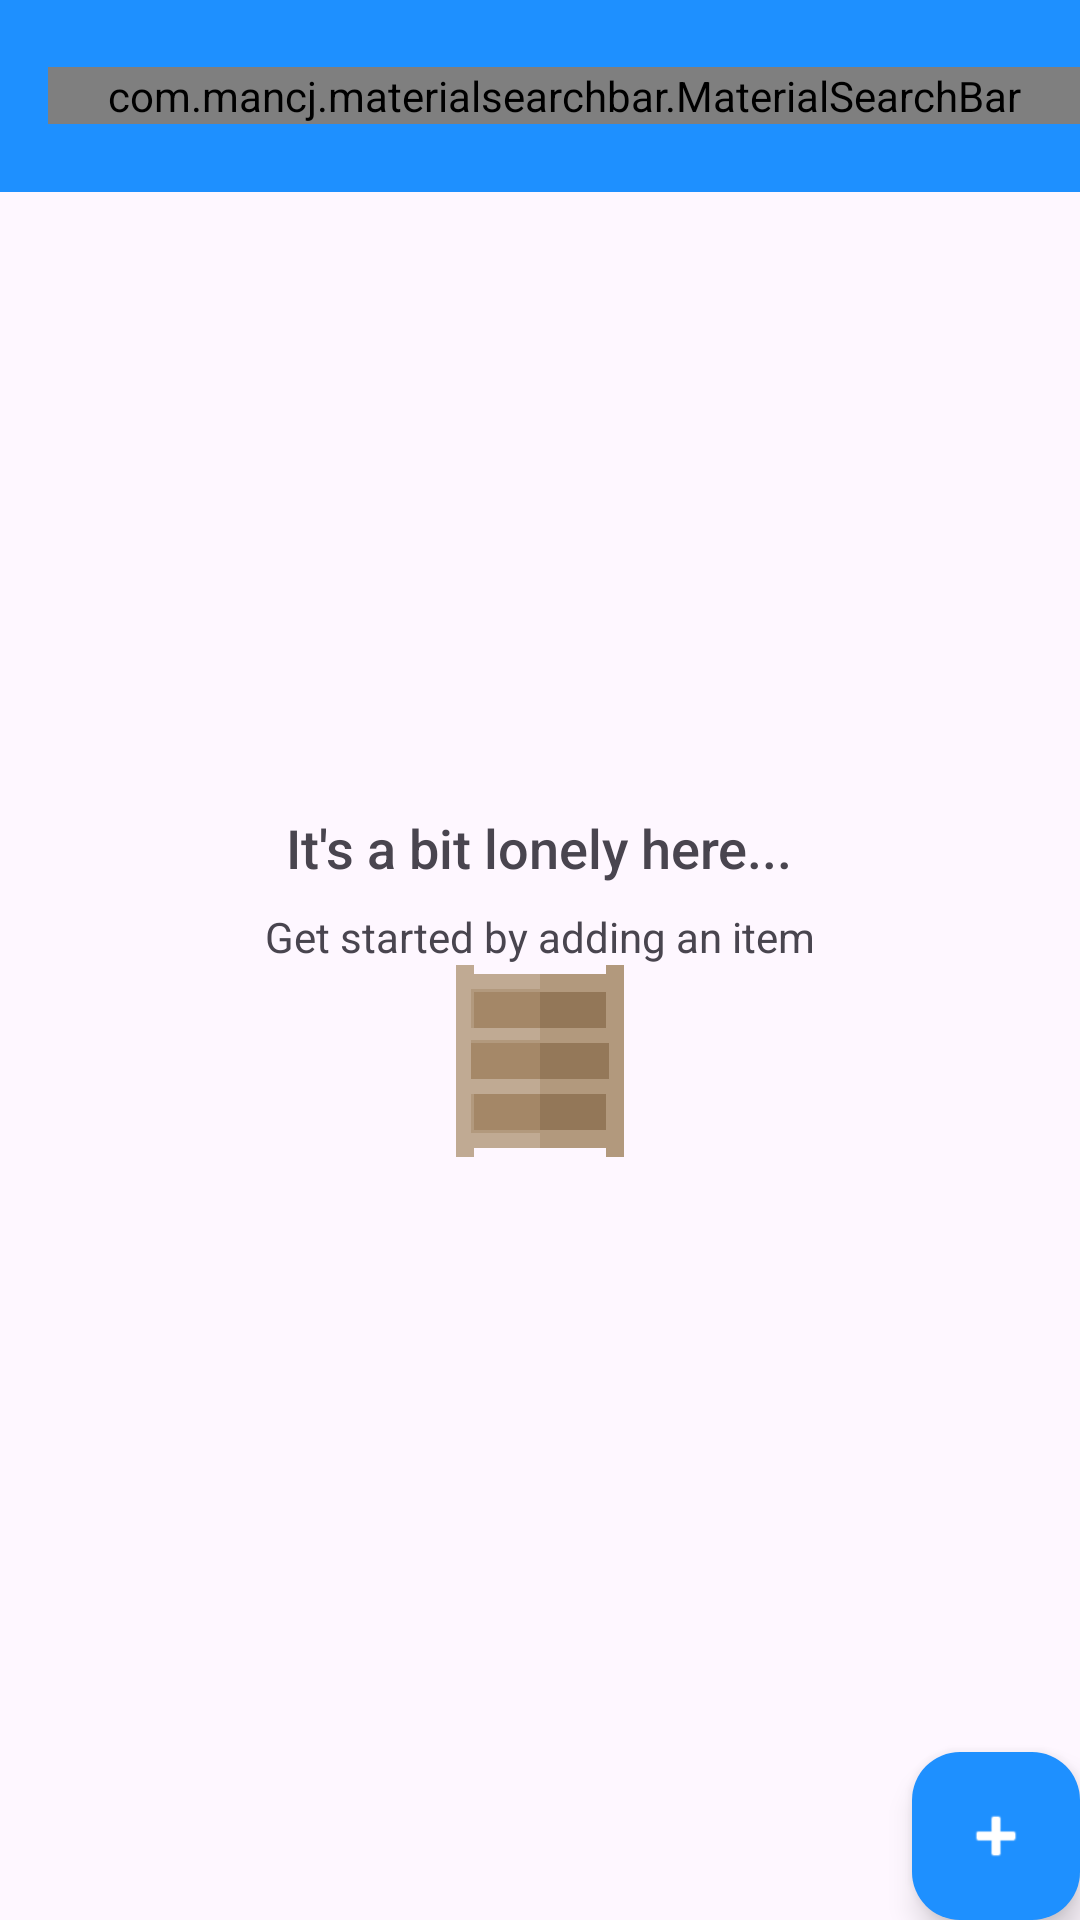

Named icons in this screenshot (1080x1920) and their centers, (x=x, y=y):
add: (x=996, y=1836)
empty shelf: (x=540, y=1061)
